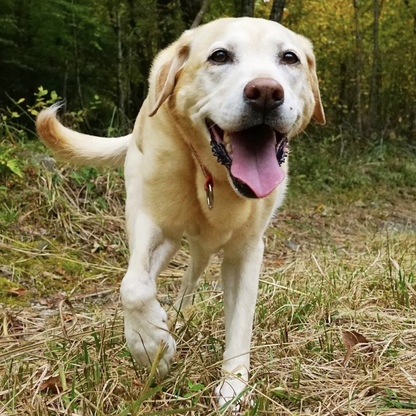labrado: (35, 13, 329, 402)
